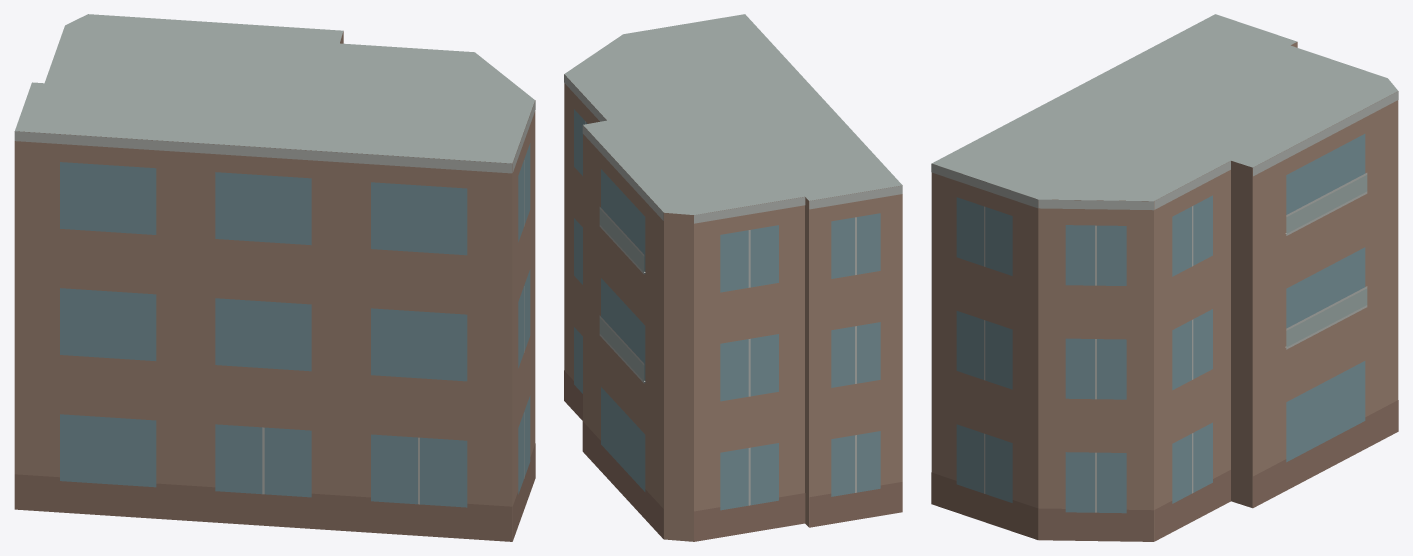
The model's file is survey-upis-32613358.glb.
The picture shows the model from 3 angles, left to right: view 1: azimuth 30°, elevation 25°; view 2: azimuth 150°, elevation 25°; view 3: azimuth 270°, elevation 25°; orthographic projection. The views are drawn at different scales.
Visible parts, largest first — view 1: survey-upis-32613358.tmp; view 2: survey-upis-32613358.tmp; view 3: survey-upis-32613358.tmp.
Part boxes in pixels (left/top/right/bottom): survey-upis-32613358.tmp: left=14, top=14, right=535, bottom=541; survey-upis-32613358.tmp: left=564, top=14, right=902, bottom=541; survey-upis-32613358.tmp: left=931, top=14, right=1398, bottom=541.
Size of the model in its own units: 10.91 by 9.25 by 11.5.
